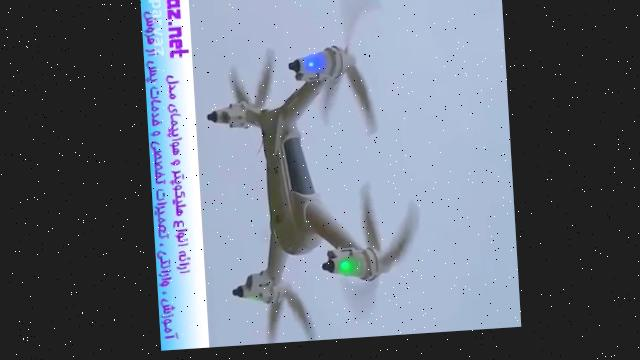drone: (196, 0, 432, 350)
